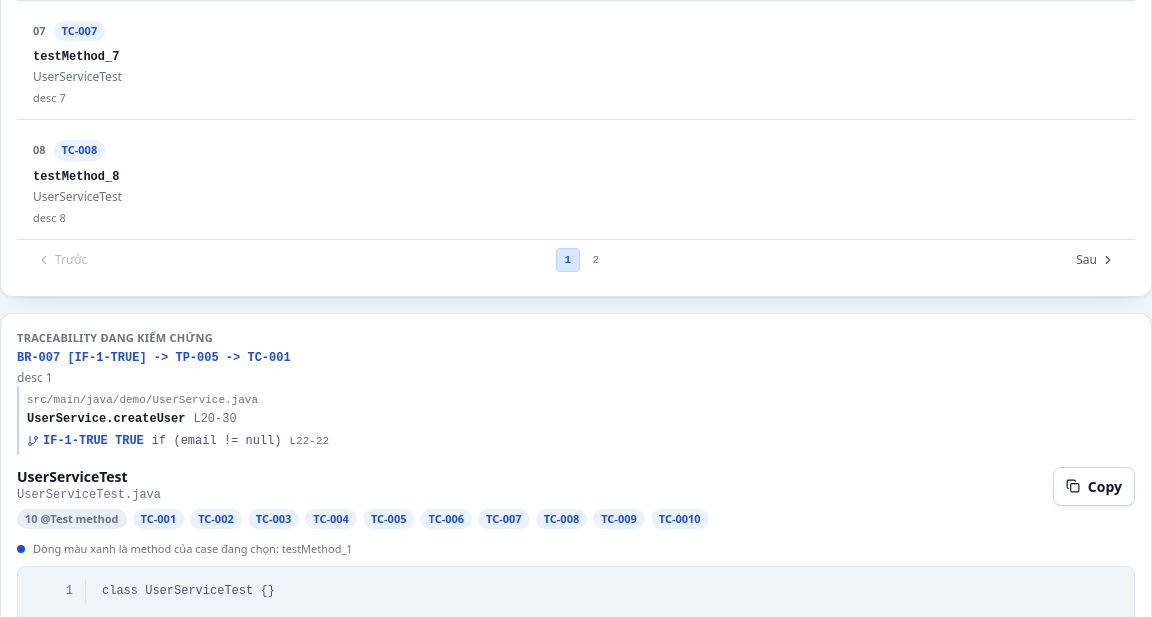
Test case: UnitTestsPanel › paginates method list when there are more than 8 methods and allows navigation
(page scrolled)
Expected: the button "08 TC-008 testMethod_8 UserServiceTest desc 8" is shown, top-left (17, 128), bottom-right (1135, 238)
Expected: the button "testMethod_9" is not shown
// Chuyển sang trang 2
Click the button with aria-label "Trang sau" at (1096, 260), box top-left (1068, 248), bottom-right (1123, 272)
(page scrolled)
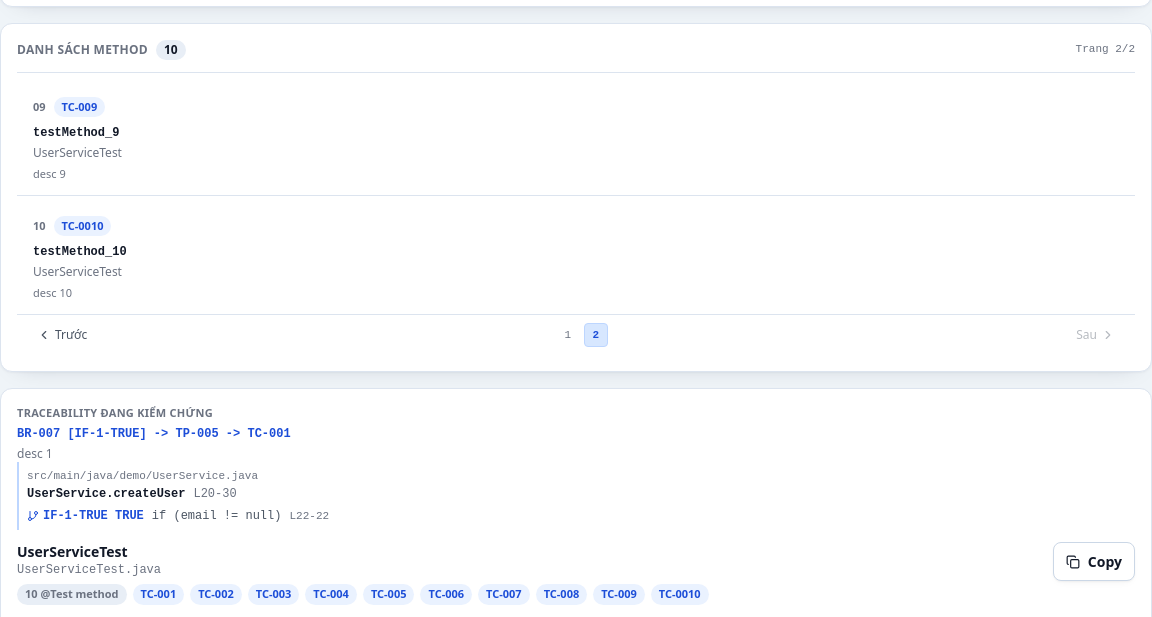
Now the text "Trang 2/2" is shown, box top-left (1076, 41), bottom-right (1135, 58)
Now the button "09 TC-009 testMethod_9 UserServiceTest desc 9" is shown, box top-left (17, 84), bottom-right (1135, 196)
Now the button "10 TC-0010 testMethod_10 UserServiceTest desc 10" is shown, box top-left (17, 204), bottom-right (1135, 314)
